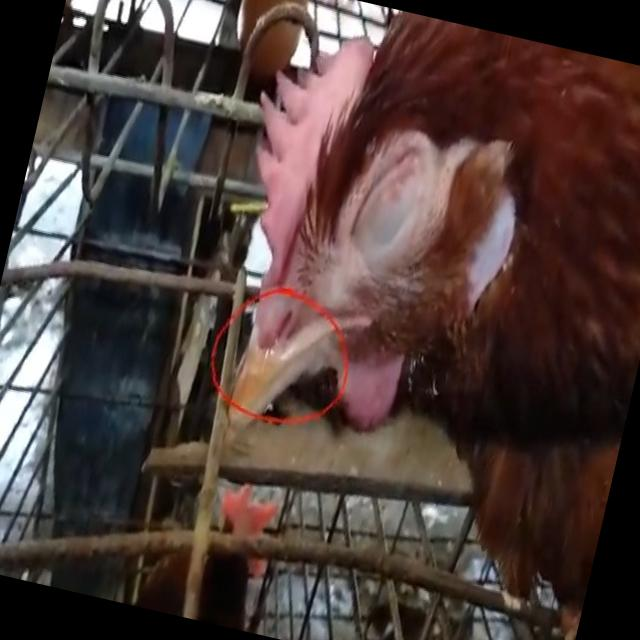bird flu: (159, 0, 640, 614)
